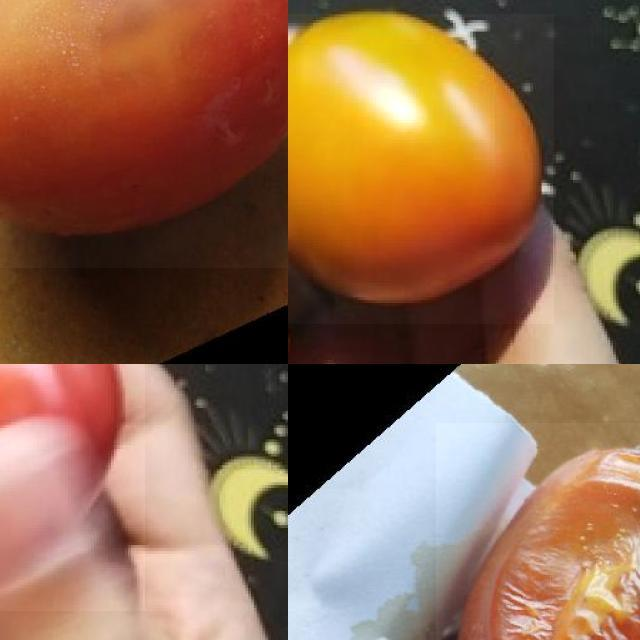Fresh Tomato: (288, 14, 553, 323), (0, 0, 288, 268), (0, 364, 145, 610)
Rotten Tomato: (436, 422, 640, 640)
